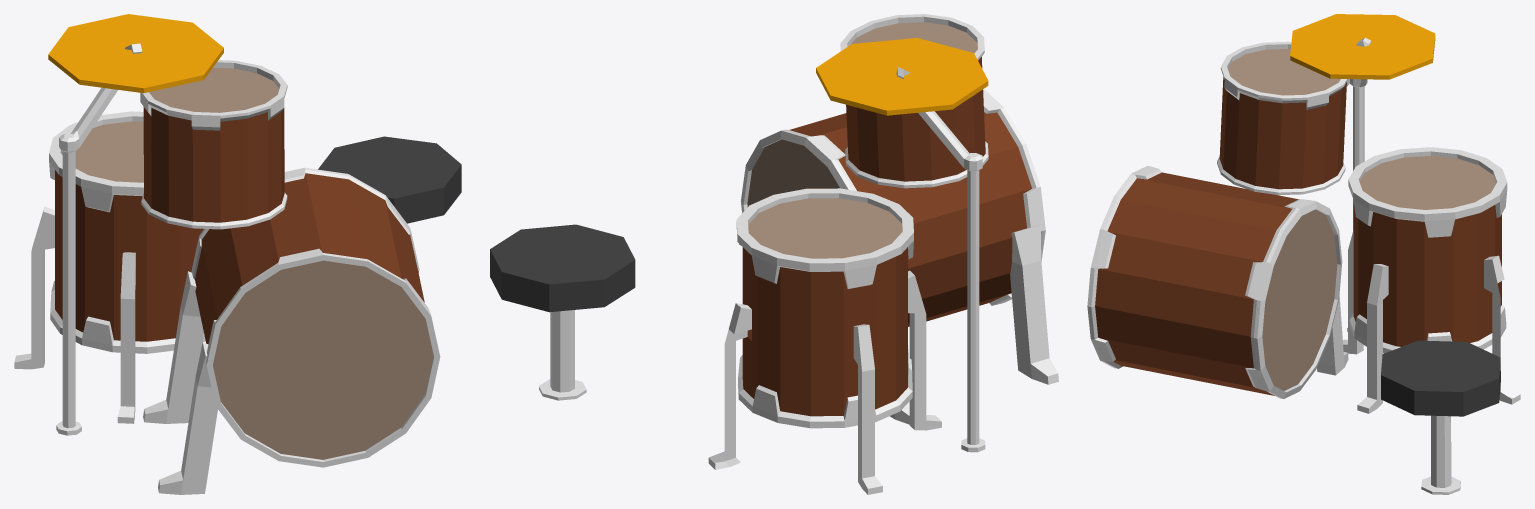
File: baraban2.fbx
The picture shows the model from 3 angles, left to right: view 1: azimuth 30°, elevation 25°; view 2: azimuth 150°, elevation 25°; view 3: azimuth 270°, elevation 25°; orthographic projection. The views are drawn at different scales.
Visible parts, largest first — view 1: Cylinder.016, Cylinder.002; view 2: Cylinder.016, Cylinder.002; view 3: Cylinder.016, Cylinder.002.
Boxes of the visible parts, x1,y1,x2,y2 form: Cylinder.016: [14, 14, 440, 494]; Cylinder.002: [318, 136, 461, 223]; Cylinder.016: [708, 14, 1058, 494]; Cylinder.002: [490, 224, 635, 400]; Cylinder.016: [1087, 14, 1520, 413]; Cylinder.002: [1381, 340, 1500, 494].
Size of the model in its own units: 756 by 604 by 737.
